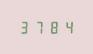eight: (46, 20, 59, 34)
four: (60, 20, 73, 34)
seven: (32, 20, 45, 34)
three: (18, 20, 31, 34)
